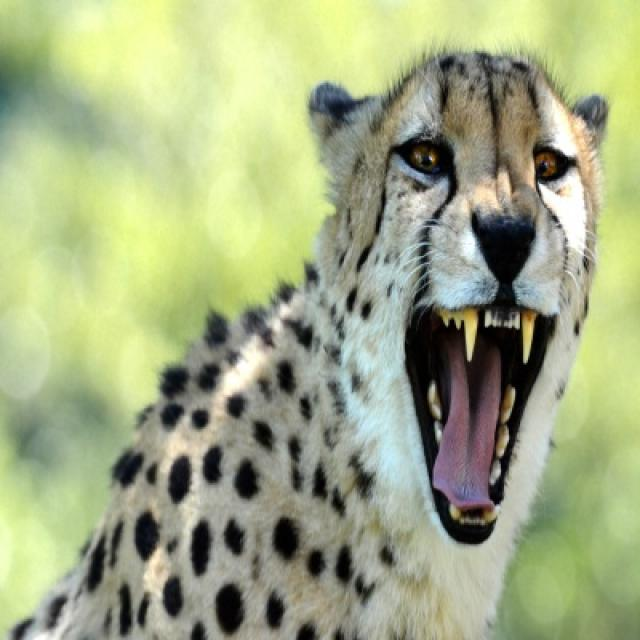Cheetah: (5, 41, 608, 636)
